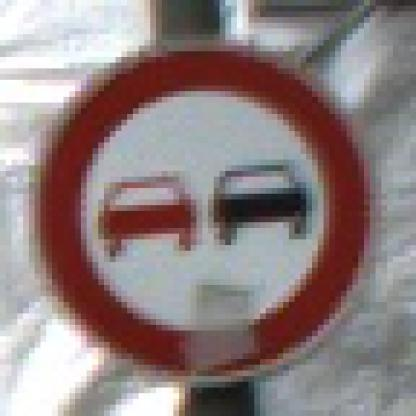No Overtaking: (36, 35, 377, 377)
